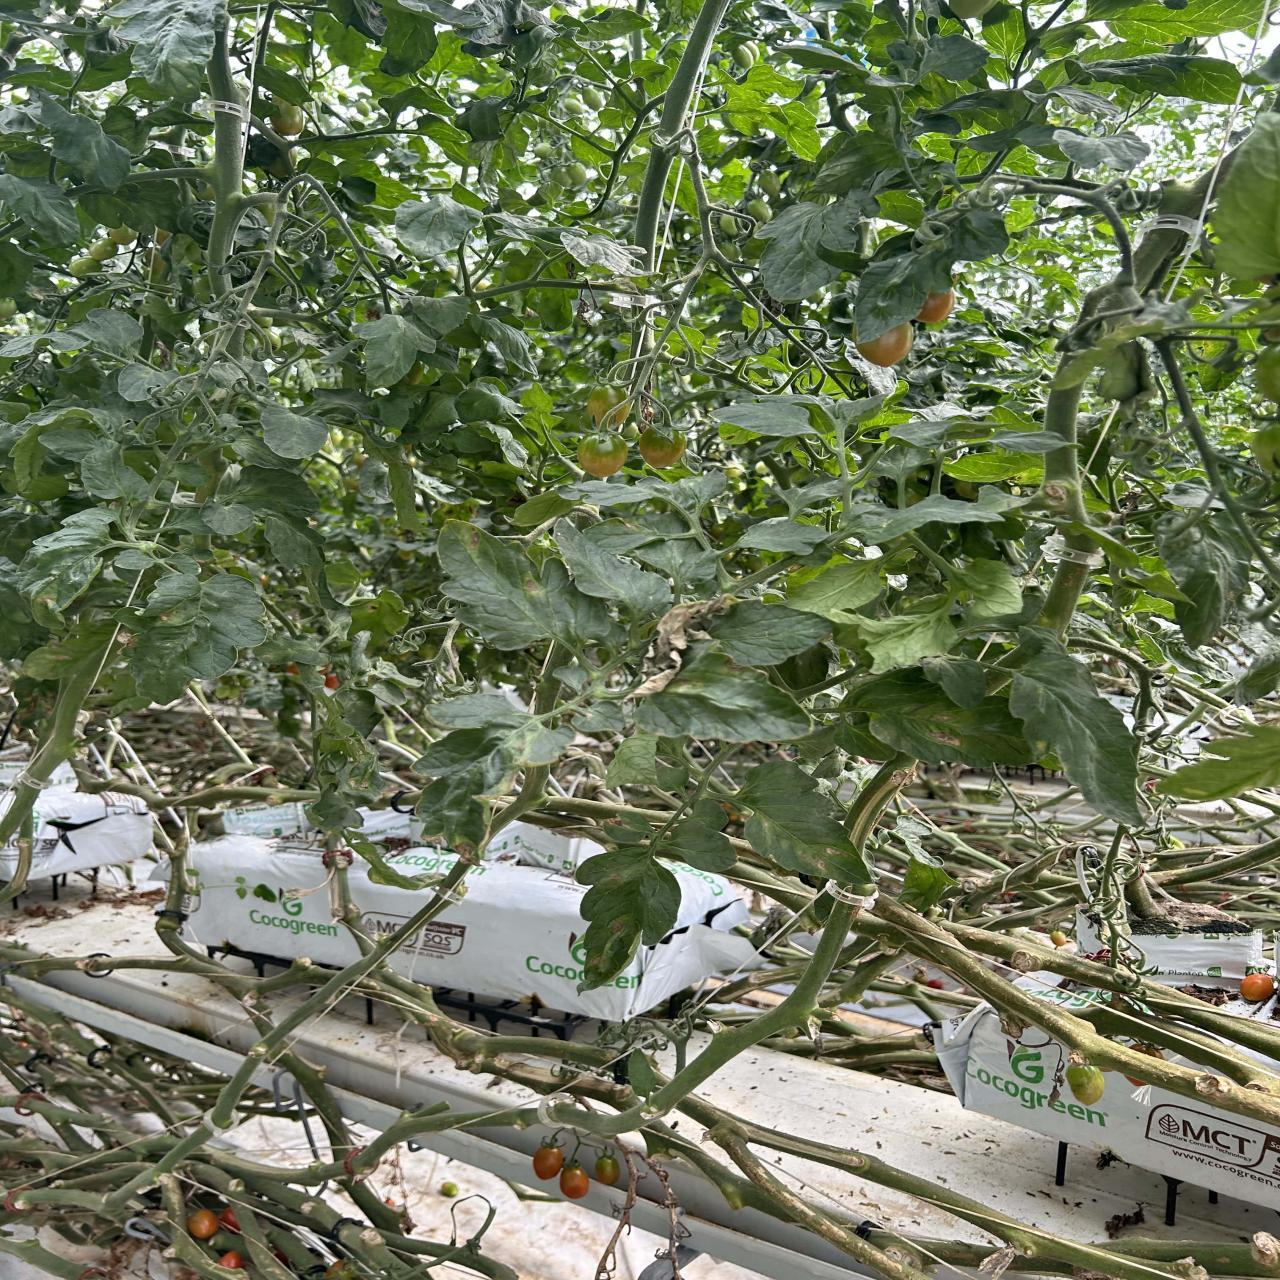Rugose leaf: (734, 761, 869, 885), (577, 845, 681, 987)
Rugose tomato: (855, 322, 913, 367), (577, 433, 628, 479), (638, 428, 686, 470), (588, 386, 632, 430), (917, 289, 955, 324), (68, 256, 101, 278), (89, 238, 118, 261), (108, 224, 137, 245)
